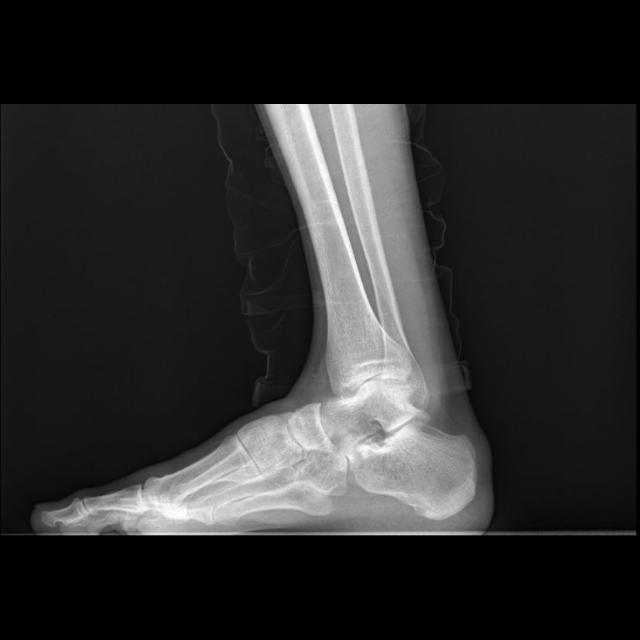a: (349, 421, 477, 519)
b: (287, 404, 332, 449)
c: (145, 435, 261, 518)
